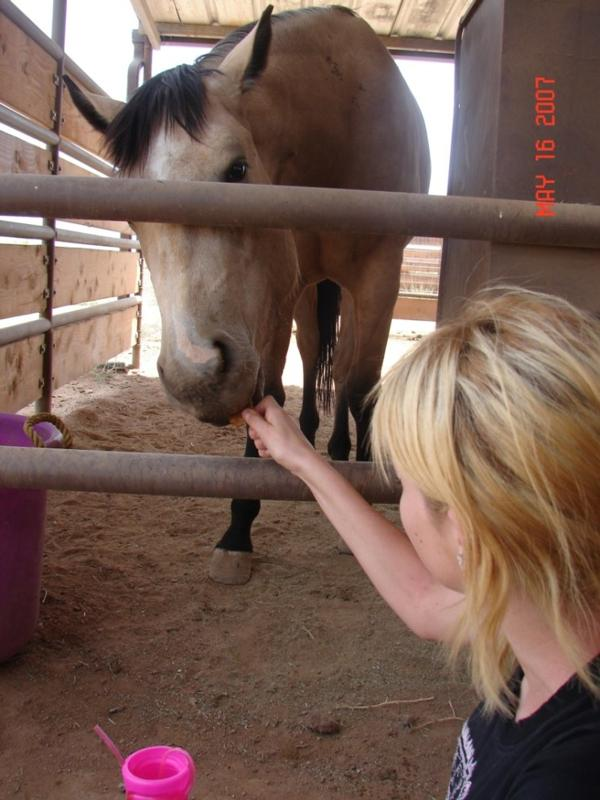person: (237, 290, 600, 800)
